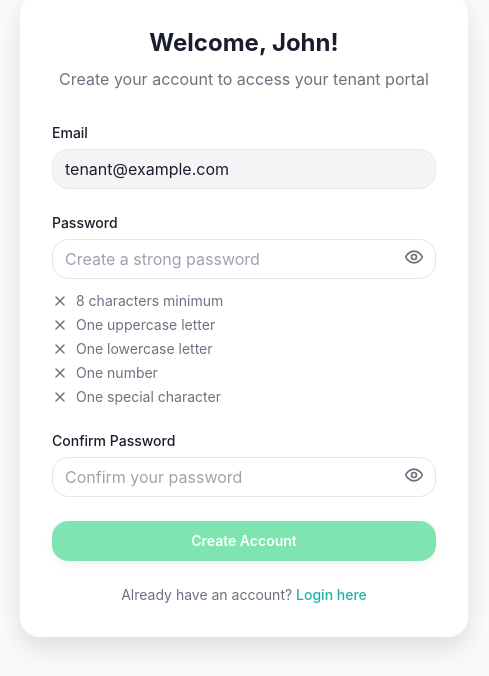
TenantSignupPage › Signup Submission › should show loading state while submitting
Type "StrongPass123!" into the password field labelled "Password" at (244, 259), box [52, 239, 436, 279]
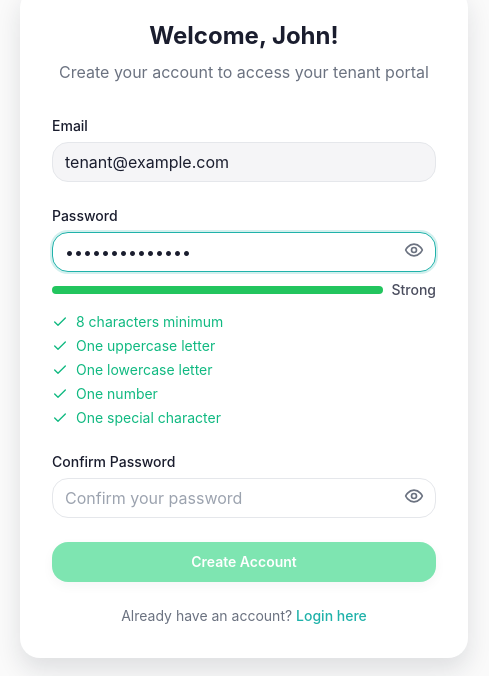
Type "StrongPass123!" into the password field labelled "Confirm Password" at (244, 498), box [52, 478, 436, 518]
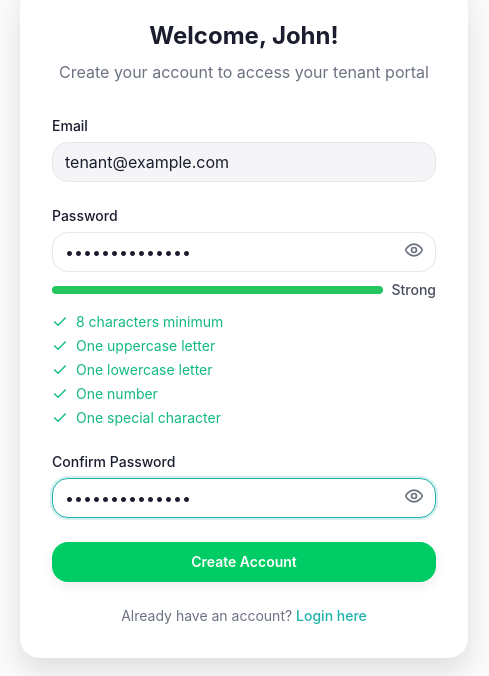
Click the button "Create Account" at (244, 562), box [52, 542, 436, 582]
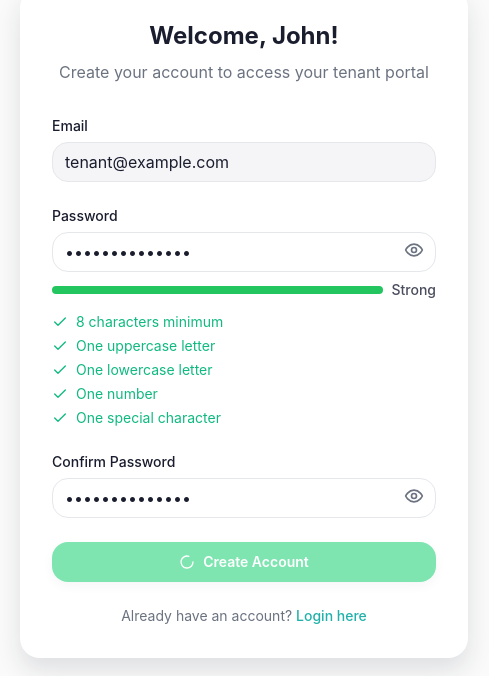
Now the button "Create Account" is disabled, box [52, 542, 436, 582]
